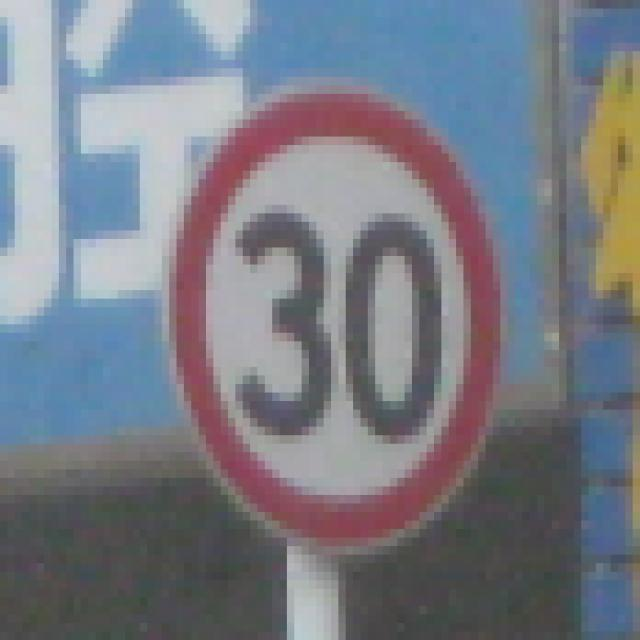Speed: (165, 63, 540, 567)
